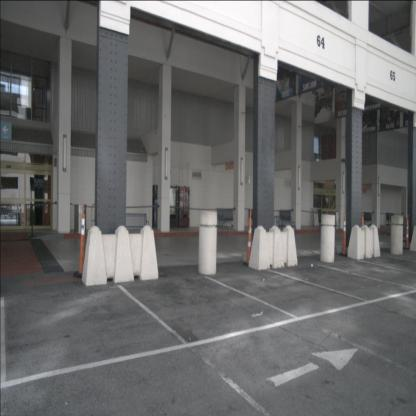movable_object-trafficcone: (73, 204, 92, 278), (243, 210, 255, 266), (339, 212, 349, 257), (403, 215, 412, 250)
